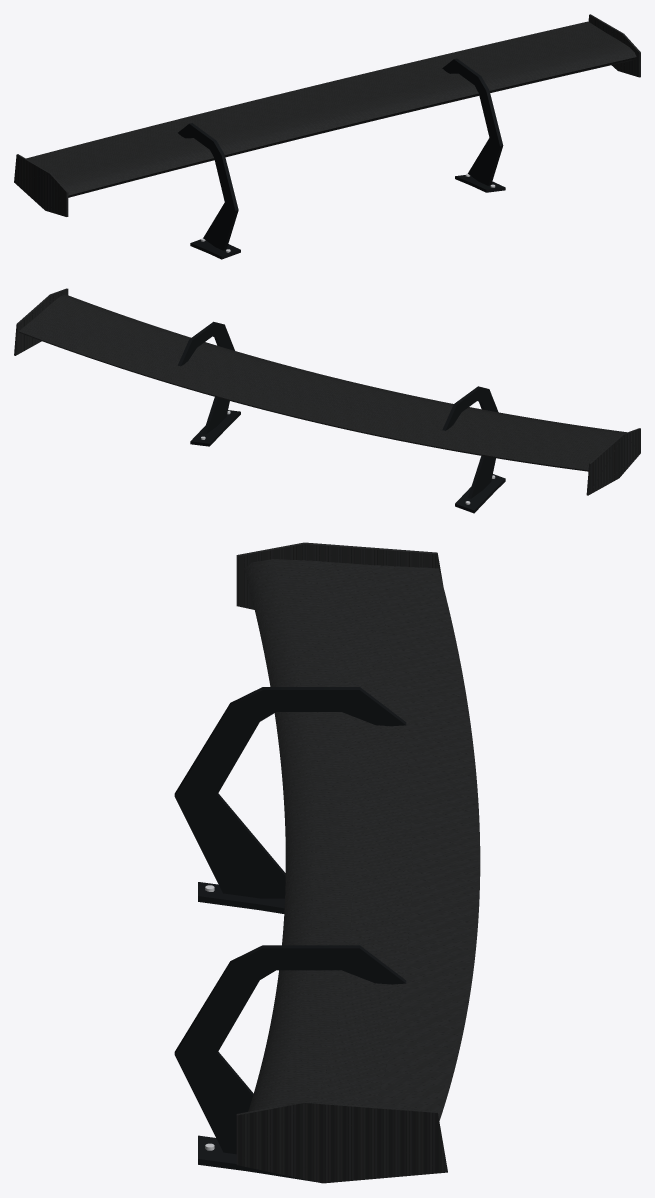
The model's file is RA24_swan_neck_wing.glb.
The picture shows the model from 3 angles, top to bottom: view 1: azimuth 30°, elevation 25°; view 2: azimuth 150°, elevation 25°; view 3: azimuth 270°, elevation 25°; orthographic projection. The views are drawn at different scales.
Parts seen in each view (by area): view 1: MOD_ND_RA24_airfoil, MOD_ND_RA24_swan_neck_neg1, MOD_ND_RA24_swan_neck_1, MOD_ND_RA24_endplate_neg1, MOD_ND_RA24_endplate_1, MOD_ND_RA24_foot_neg1, MOD_ND_RA24_foot_1; view 2: MOD_ND_RA24_airfoil, MOD_ND_RA24_endplate_neg1, MOD_ND_RA24_swan_neck_neg1, MOD_ND_RA24_swan_neck_1, MOD_ND_RA24_endplate_1, MOD_ND_RA24_foot_neg1, MOD_ND_RA24_foot_1; view 3: MOD_ND_RA24_airfoil, MOD_ND_RA24_endplate_1, MOD_ND_RA24_swan_neck_neg1, MOD_ND_RA24_swan_neck_1, MOD_ND_RA24_endplate_neg1, MOD_ND_RA24_foot_neg1, MOD_ND_RA24_foot_1.
Boxes of the visible parts, bbox=[...] form: MOD_ND_RA24_airfoil: bbox=[26, 21, 636, 197]; MOD_ND_RA24_swan_neck_neg1: bbox=[178, 123, 238, 250]; MOD_ND_RA24_swan_neck_1: bbox=[442, 58, 503, 185]; MOD_ND_RA24_endplate_neg1: bbox=[14, 154, 68, 216]; MOD_ND_RA24_endplate_1: bbox=[588, 14, 640, 77]; MOD_ND_RA24_foot_neg1: bbox=[190, 239, 240, 259]; MOD_ND_RA24_foot_1: bbox=[455, 175, 505, 192]; MOD_ND_RA24_airfoil: bbox=[19, 294, 626, 471]; MOD_ND_RA24_endplate_neg1: bbox=[586, 428, 640, 495]; MOD_ND_RA24_swan_neck_neg1: bbox=[442, 386, 498, 498]; MOD_ND_RA24_swan_neck_1: bbox=[177, 321, 234, 434]; MOD_ND_RA24_endplate_1: bbox=[14, 288, 68, 355]; MOD_ND_RA24_foot_neg1: bbox=[455, 474, 505, 513]; MOD_ND_RA24_foot_1: bbox=[190, 410, 240, 446]; MOD_ND_RA24_airfoil: bbox=[244, 559, 480, 1120]; MOD_ND_RA24_endplate_1: bbox=[236, 1101, 447, 1183]; MOD_ND_RA24_swan_neck_neg1: bbox=[174, 687, 406, 898]; MOD_ND_RA24_swan_neck_1: bbox=[174, 945, 406, 1154]; MOD_ND_RA24_endplate_neg1: bbox=[236, 542, 443, 609]; MOD_ND_RA24_foot_neg1: bbox=[198, 882, 284, 913]; MOD_ND_RA24_foot_1: bbox=[198, 1135, 316, 1182].
Bounding box in the file's own units: 1.43 × 0.2706 × 0.33.
Materials: 3 (1 with a texture image).
